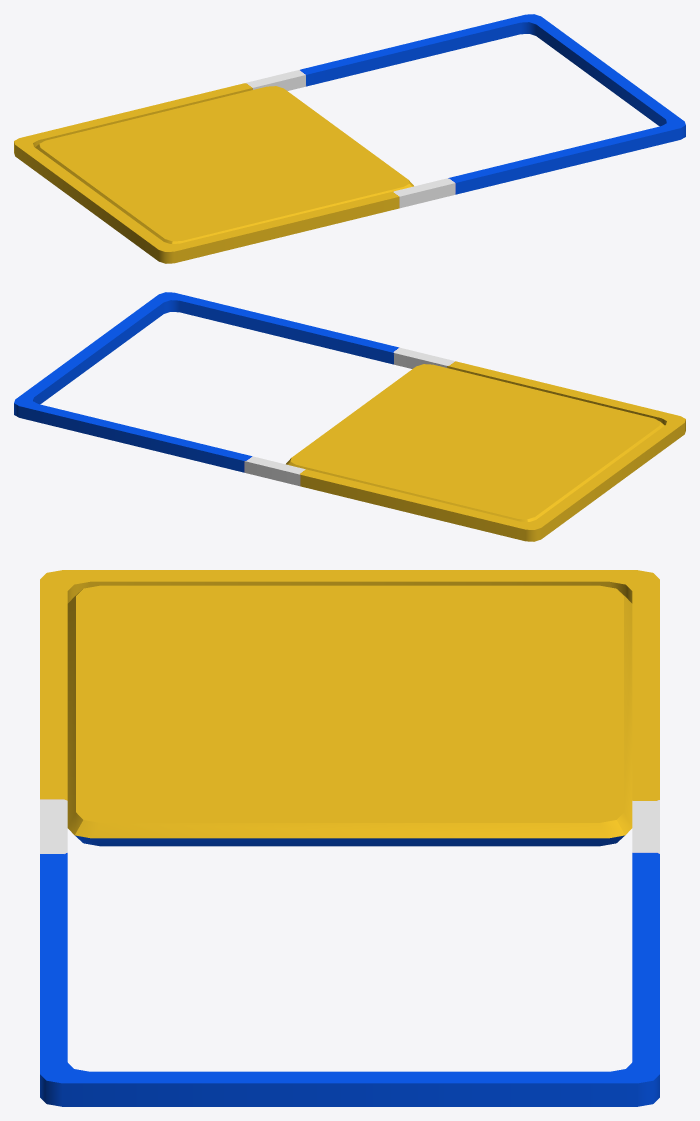
Rendered from grid_platform.glb.
The picture shows the model from 3 angles, top to bottom: view 1: azimuth 30°, elevation 25°; view 2: azimuth 150°, elevation 25°; view 3: azimuth 270°, elevation 25°; orthographic projection. The views are drawn at different scales.
Parts seen in each view (by area): view 1: grid_platform; view 2: grid_platform; view 3: grid_platform.
Part boxes in pixels (x1,y1,x2,y2): grid_platform: [14, 14, 685, 263]; grid_platform: [14, 292, 685, 541]; grid_platform: [40, 570, 659, 1106].
Bounding box in the file's own units: 9.4 × 0.2 × 4.8.
Materials: 1 (1 with a texture image).
